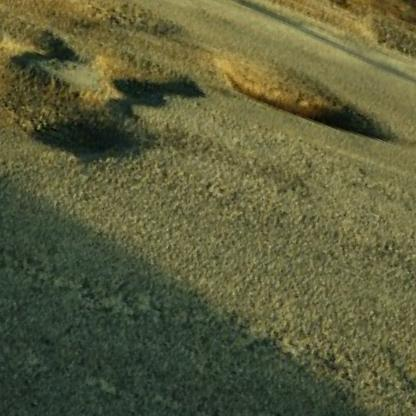pothole: (0, 14, 180, 192), (205, 37, 403, 158), (0, 0, 187, 92), (85, 37, 209, 122)
